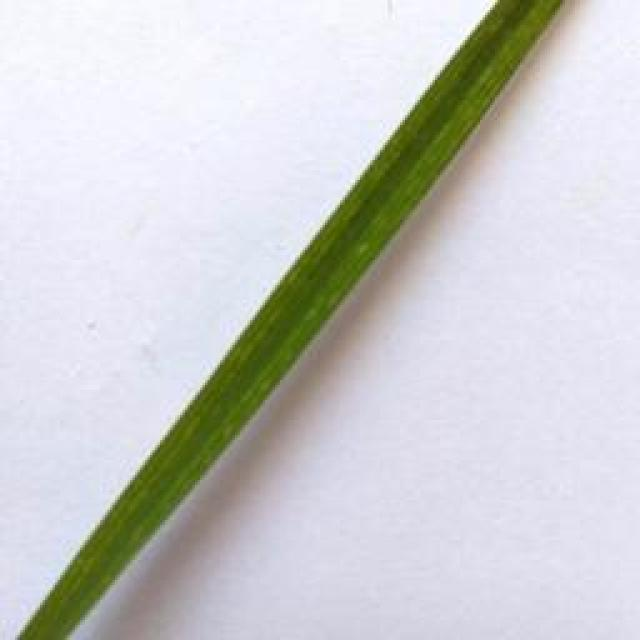Healthy-Plant: (18, 0, 566, 640)
